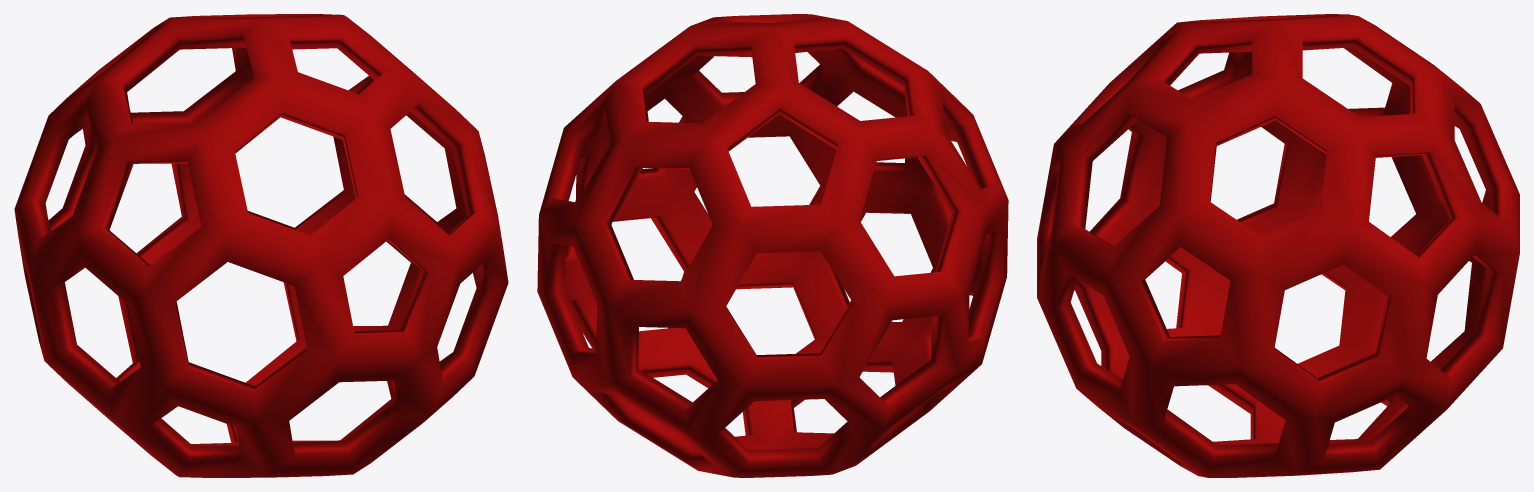
Rendered from Dog_Toy.fbx.
The picture shows the model from 3 angles, left to right: view 1: azimuth 30°, elevation 25°; view 2: azimuth 150°, elevation 25°; view 3: azimuth 270°, elevation 25°; orthographic projection. The views are drawn at different scales.
Visible parts, largest first — view 1: pSolid1; view 2: pSolid1; view 3: pSolid1.
Boxes of the visible parts, bbox=[...] form: pSolid1: bbox=[14, 14, 508, 477]; pSolid1: bbox=[537, 14, 1008, 477]; pSolid1: bbox=[1037, 14, 1519, 477].
Size of the model in its own units: 0.1109 by 0.1124 by 0.1094.
